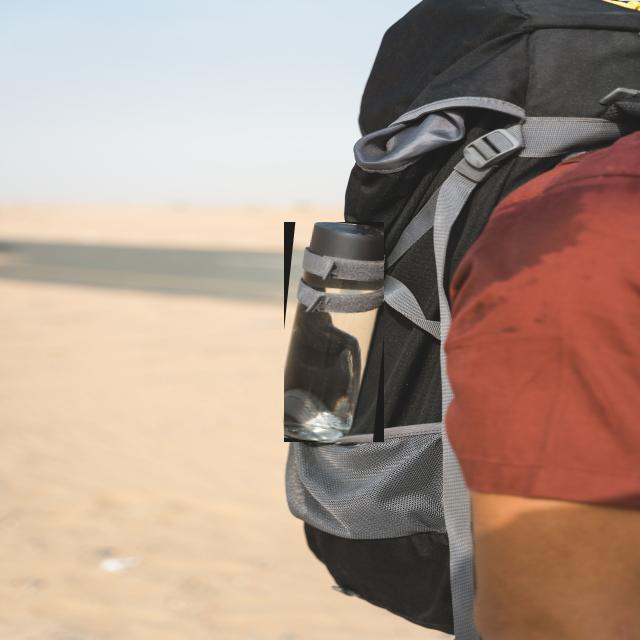Bottle: (285, 223, 384, 442)
